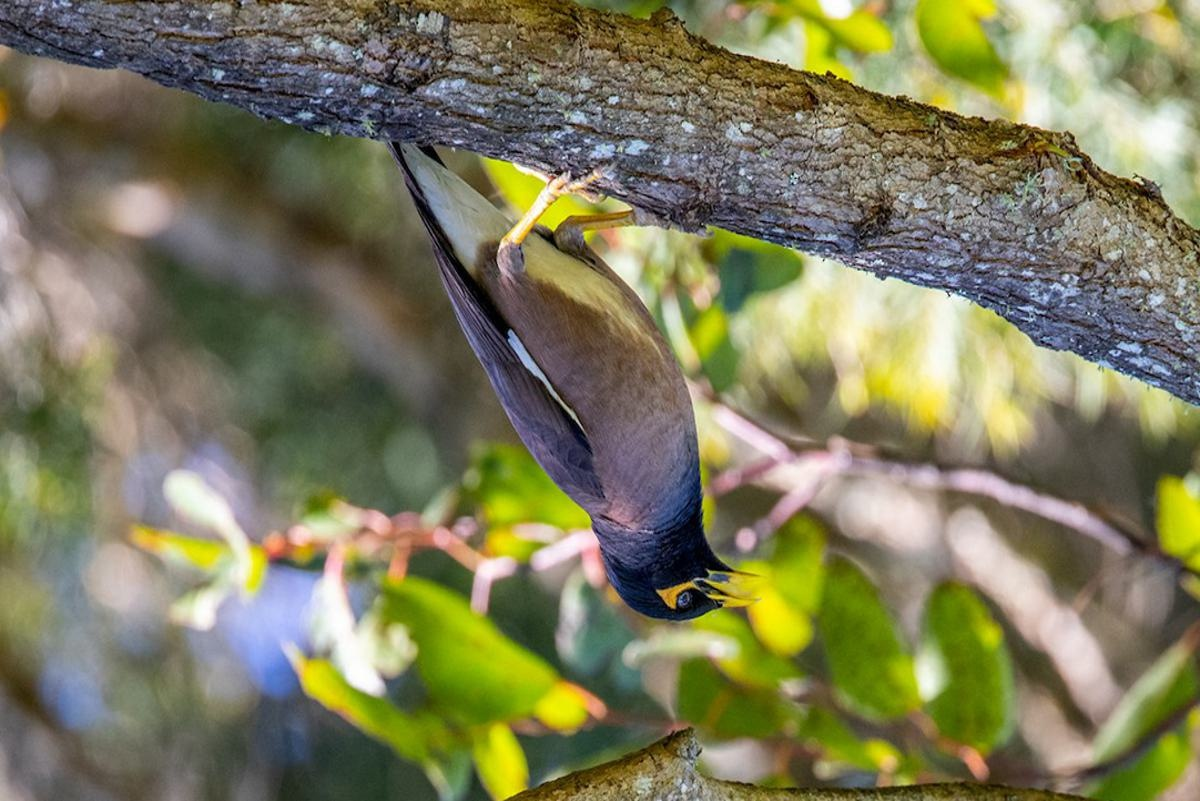myna: (347, 121, 765, 625)
